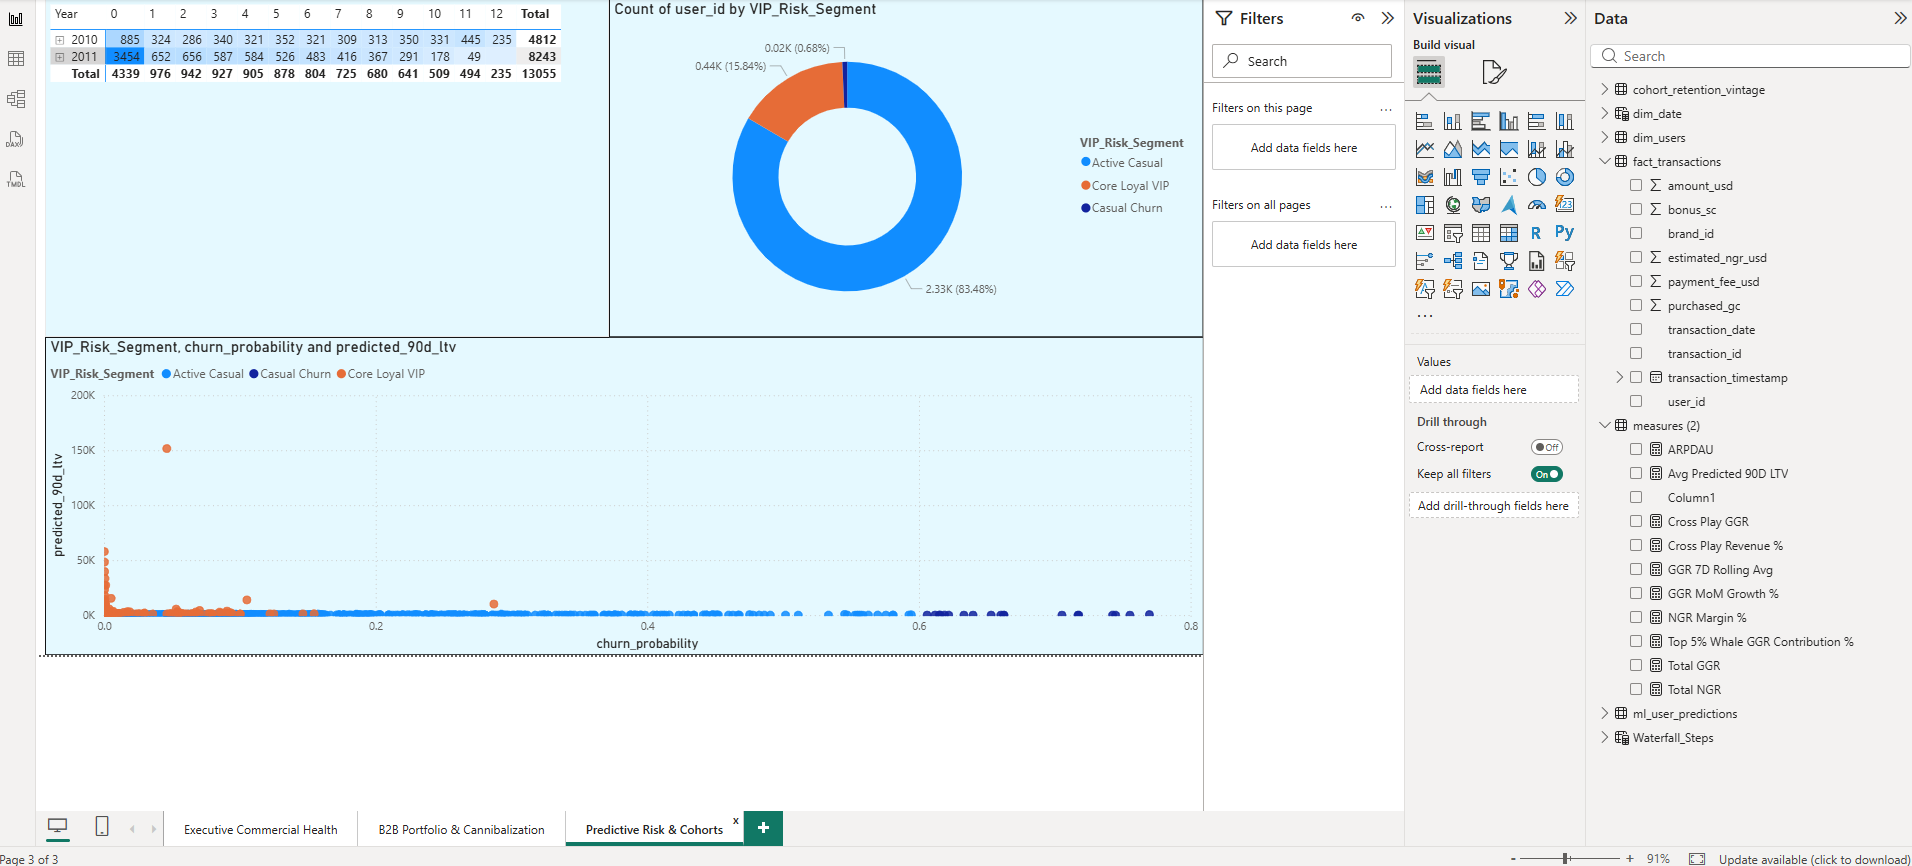

The page's visual inventory and layout, read from the dashboard file:
{"tool":"powerbi","page":{"name":"Predictive Risk & Cohorts","canvas":[1280,720],"ordinal":2},"visuals":[{"type":"pivotTable","fields":{"Rows":["cohort_retention_vintage.cohort_month.Variation.Date Hierarchy.Year","cohort_retention_vintage.cohort_month.Variation.Date Hierarchy.Month","cohort_retention_vintage.cohort_month.Variation.Date Hierarchy.Day"],"Values":["Sum(cohort_retention_vintage.active_users)"],"Columns":["cohort_retention_vintage.life_month"]},"box":[9.8,0,618.9,370.7],"z":0},{"type":"scatterChart","fields":{"X":["ml_user_predictions.churn_probability"],"Y":["ml_user_predictions.predicted_90d_ltv"],"Series":["ml_user_predictions.VIP_Risk_Segment"]},"box":[9.8,370.7,1270.5,349.5],"z":1000},{"type":"donutChart","fields":{"Category":["ml_user_predictions.VIP_Risk_Segment"],"Y":["CountNonNull(ml_user_predictions.user_id)"]},"box":[628.7,0,651.6,370.7],"z":2000}]}

Visuals, with their boxes on the page's 1280x720 design canvas (x1, y1, x2, y2). These are canvas units, not pixel positions in the 1912x866 screenshot, which may show the page scaled, cropped or inside an application window:
pivotTable - cohort_retention_vintage.cohort_month.Variation.Date Hierarchy.Year x cohort_retention_vintage.cohort_month.Variation.Date Hierarchy.Month: rect(10, 0, 629, 371)
scatterChart - ml_user_predictions.churn_probability x ml_user_predictions.predicted_90d_ltv: rect(10, 371, 1280, 720)
donutChart - ml_user_predictions.VIP_Risk_Segment x CountNonNull(ml_user_predictions.user_id): rect(629, 0, 1280, 371)
